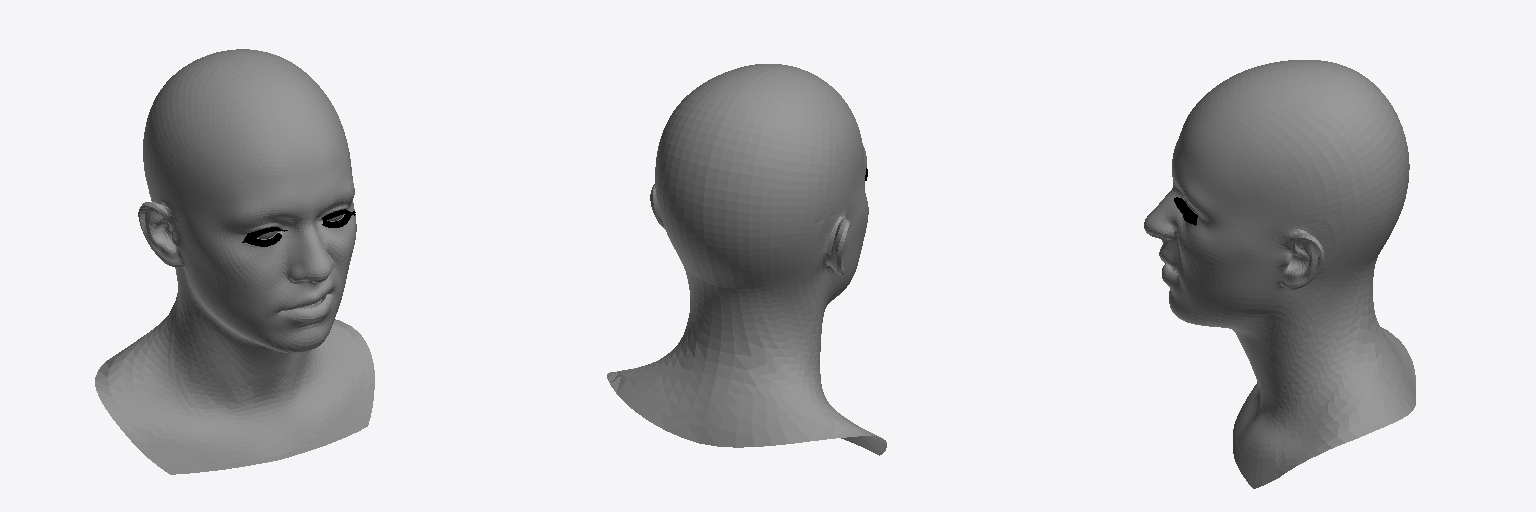
File: noseSneer_L.obj
3 views of the same model, side by side, from view 1: azimuth 30°, elevation 25°; view 2: azimuth 150°, elevation 25°; view 3: azimuth 270°, elevation 25° (orthographic).
Size of the model in its own units: 24.83 by 33.81 by 22.34.